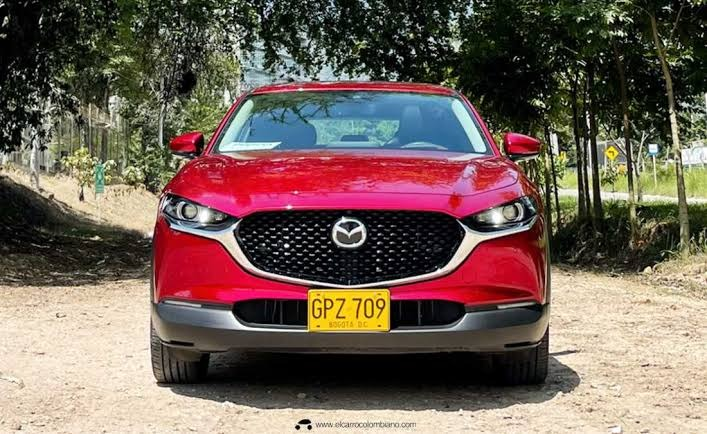car: (143, 79, 558, 388), (492, 130, 548, 186), (493, 129, 548, 164)
